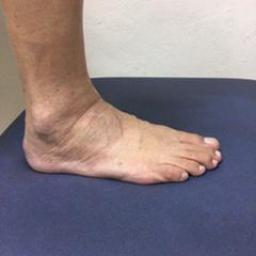Lateral View -Right Foot-: (14, 68, 231, 195)
